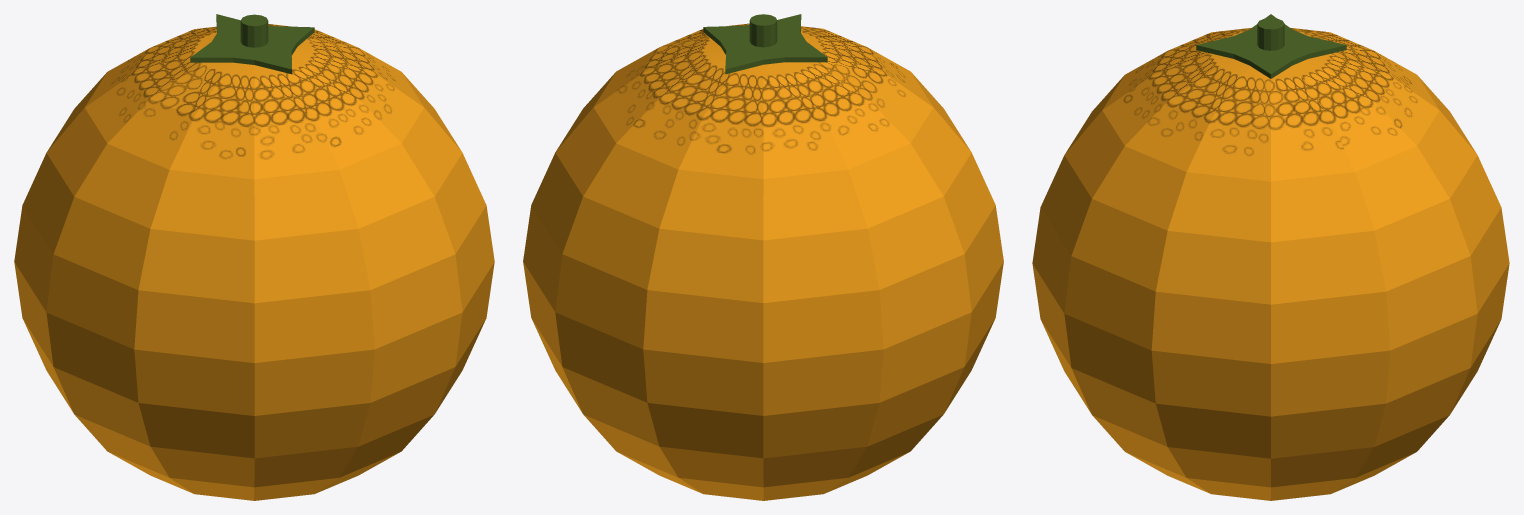
Rendered from Orange.obj.
The picture shows the model from 3 angles, left to right: view 1: azimuth 30°, elevation 25°; view 2: azimuth 150°, elevation 25°; view 3: azimuth 270°, elevation 25°; orthographic projection.
Parts seen in each view (by area): view 1: pCylinder4; view 2: pCylinder4; view 3: pCylinder4.
Part boxes in pixels (bbox=[...]): pCylinder4: bbox=[14, 14, 494, 500]; pCylinder4: bbox=[523, 14, 1003, 500]; pCylinder4: bbox=[1032, 14, 1509, 500].
Size of the model in its own units: 4 by 4.22 by 4.
